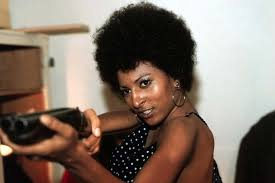black_female: (89, 5, 204, 122)
